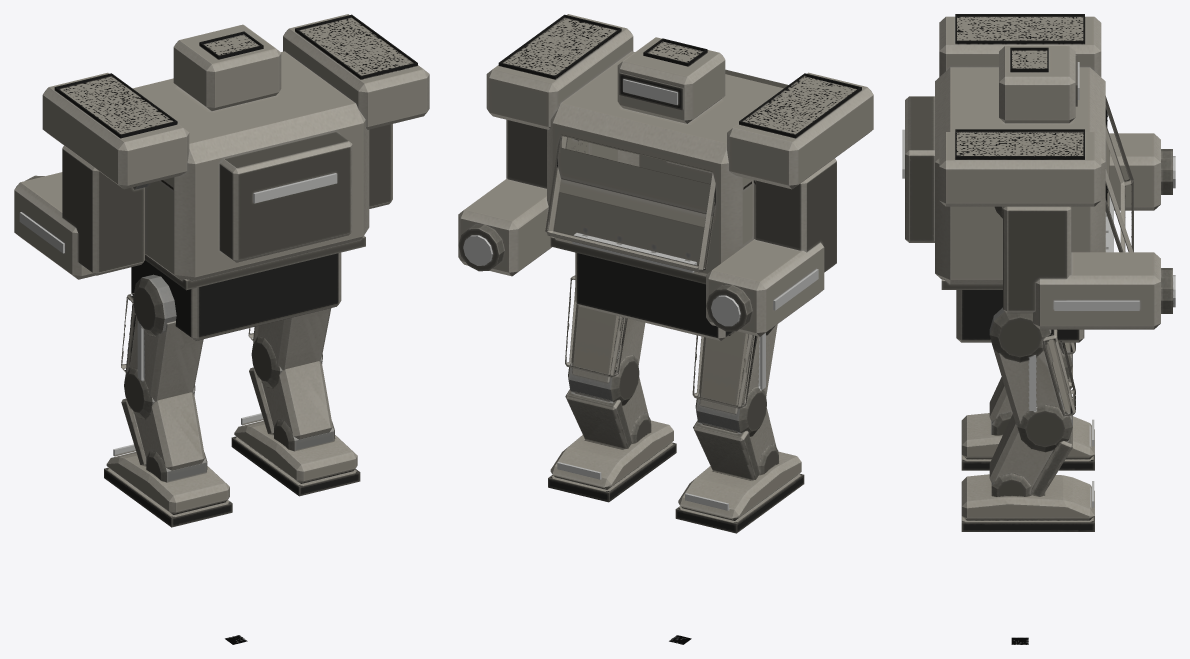
Rendered from ord_picket.fbx.
3 renders of one model, left to right at view 1: azimuth 30°, elevation 25°; view 2: azimuth 150°, elevation 25°; view 3: azimuth 270°, elevation 25°, orthographic.
Visible parts, largest first — view 1: torso_bar, base_bar, thighL_bar, shinL_bar, shinR_bar, footR_bar, footL_bar, thighR_bar, torso_glow_power_bar; view 2: torso_bar, base_bar, thighL_bar, thighR_bar, footL_bar, footR_bar, shinR_bar, shinL_bar, torso_glow_weapon_bar, torso_glow_running_bar, torso_glow_head_bar; view 3: torso_bar, thighR_bar, footR_bar, shinR_bar, footL_bar, base_bar, torso_glow_running_bar, shinL_bar.
Boxes of the visible parts, x1,y1,x2,y2 form: torso_bar: (14,14,429,290); base_bar: (131,252,341,340); thighL_bar: (121,274,203,419); shinL_bar: (121,392,207,482); shinR_bar: (249,361,334,451); footR_bar: (231,420,360,496); footL_bar: (104,452,232,527); thighR_bar: (248,308,331,387); torso_glow_power_bar: (253,173,337,203); torso_bar: (458,14,873,336); base_bar: (575,252,732,340); thighL_bar: (692,324,777,436); thighR_bar: (565,275,645,405); footL_bar: (675,451,804,533); footR_bar: (548,420,676,502); shinR_bar: (565,376,651,448); shinL_bar: (693,408,778,480); torso_glow_weapon_bar: (463,235,740,326); torso_glow_running_bar: (572,233,818,310); torso_glow_head_bar: (623,79,677,104); torso_bar: (905,14,1172,329); thighR_bar: (989,307,1075,451); footR_bar: (961,474,1094,531); shinR_bar: (989,414,1072,496); footL_bar: (961,413,1094,470); base_bar: (956,290,1084,342); torso_glow_running_bar: (1054,196,1139,310); shinL_bar: (989,366,1072,435).
Size of the model in its own units: 415 by 754 by 320.
2 materials, 2 textured.
